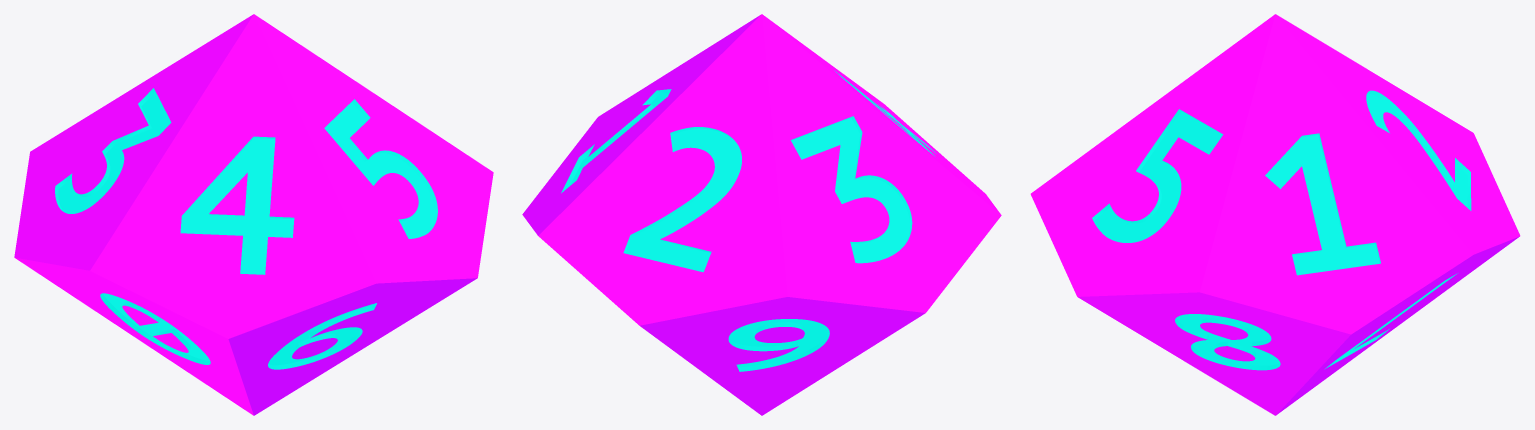
3 renders of one model, left to right at view 1: azimuth 30°, elevation 25°; view 2: azimuth 150°, elevation 25°; view 3: azimuth 270°, elevation 25°, orthographic.
Parts seen in each view (by area): view 1: d10.001; view 2: d10.001; view 3: d10.001.
Boxes of the visible parts, x1=… form: d10.001: x1=14, y1=14, x2=493, y2=415; d10.001: x1=522, y1=14, x2=1001, y2=415; d10.001: x1=1030, y1=14, x2=1520, y2=415.
Bounding box in the file's own units: 1.9 × 1.81 × 2.
